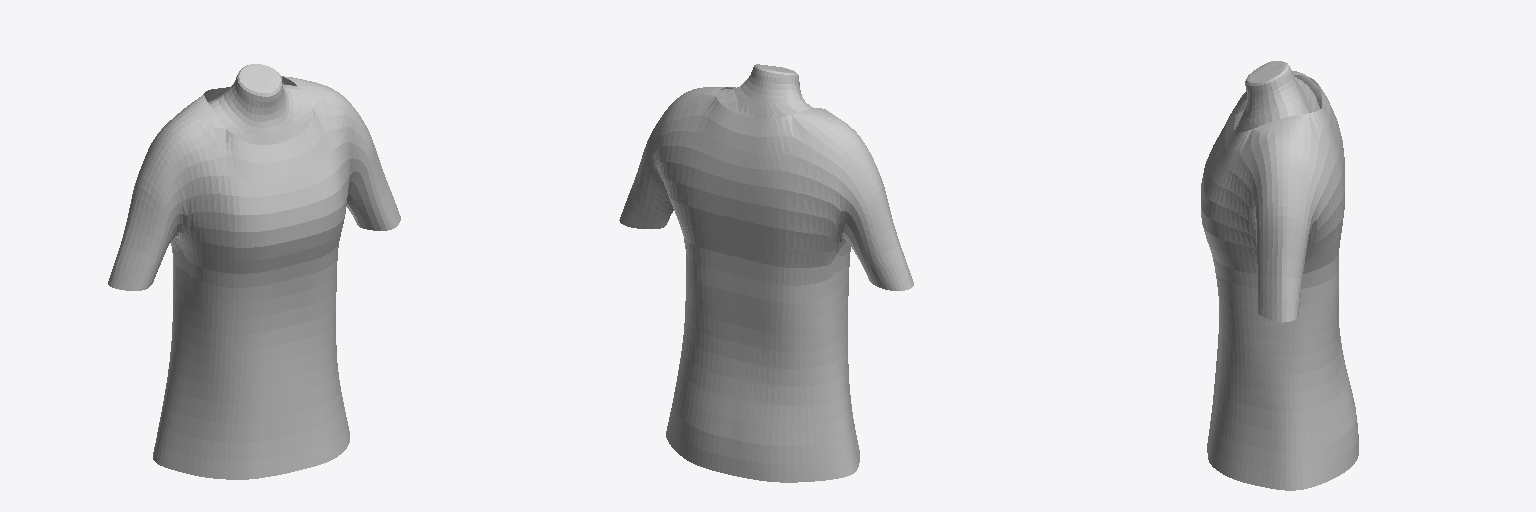
Rendered from femaletshirt.obj.
3 views of the same model, side by side, from view 1: azimuth 30°, elevation 25°; view 2: azimuth 150°, elevation 25°; view 3: azimuth 270°, elevation 25° (orthographic).
Parts seen in each view (by area): view 1: polySurface23_Material_0, Mannequin_lambert10_0, polySurface22_Material_0; view 2: polySurface22_Material_0, Mannequin_lambert10_0, polySurface23_Material_0; view 3: polySurface23_Material_0, polySurface22_Material_0, Mannequin_lambert10_0.
Part boxes in pixels (bbox=[...]): polySurface23_Material_0: bbox=[110, 86, 400, 479]; Mannequin_lambert10_0: bbox=[209, 64, 312, 144]; polySurface22_Material_0: bbox=[108, 76, 333, 464]; polySurface22_Material_0: bbox=[619, 88, 911, 482]; Mannequin_lambert10_0: bbox=[717, 64, 813, 118]; polySurface23_Material_0: bbox=[665, 87, 913, 470]; polySurface23_Material_0: bbox=[1201, 92, 1285, 490]; polySurface22_Material_0: bbox=[1282, 71, 1358, 490]; Mannequin_lambert10_0: bbox=[1235, 61, 1319, 133].
Bounding box in the file's own units: 34.11 × 42.63 × 16.18.